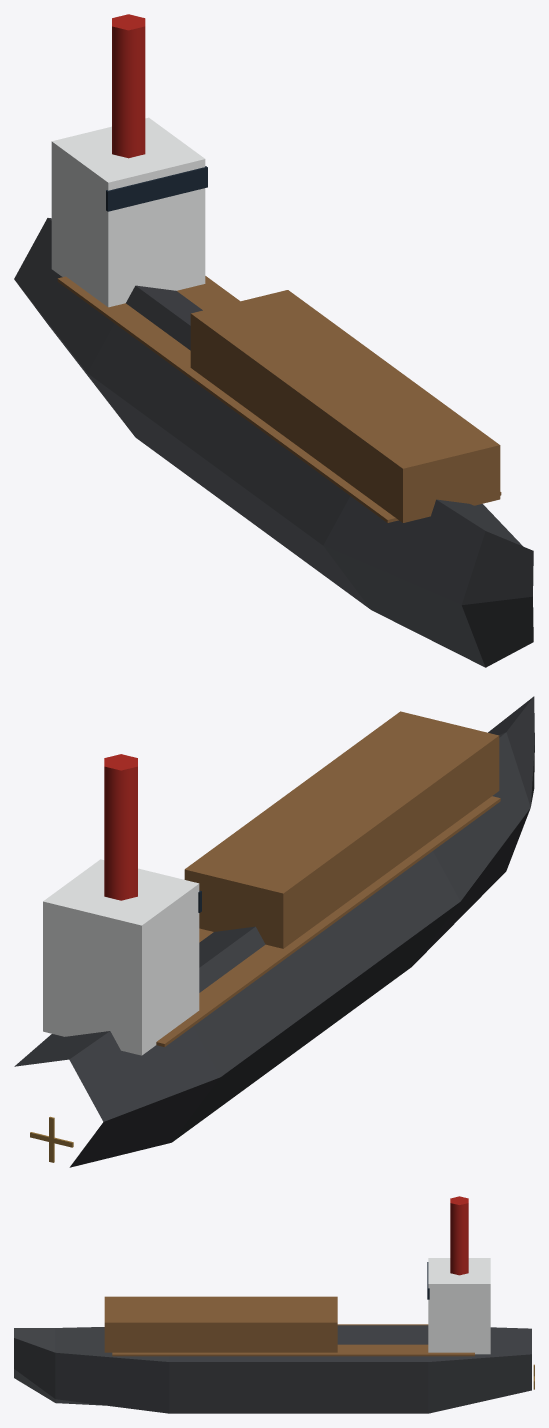
Rendered from veh_naval_merchant_a05_lod1.glb.
3 views of the same model, one above another, from view 1: azimuth 30°, elevation 25°; view 2: azimuth 150°, elevation 25°; view 3: azimuth 270°, elevation 25° (orthographic). The views are drawn at different scales.
Parts seen in each view (by area): view 1: body; view 2: body; view 3: body.
Part boxes in pixels (left/top/right/bottom): body: left=14, top=14, right=533, bottom=667; body: left=14, top=696, right=534, bottom=1167; body: left=14, top=1196, right=531, bottom=1413.
Bounding box in the file's own units: 3.4 × 10.02 × 22.13.
